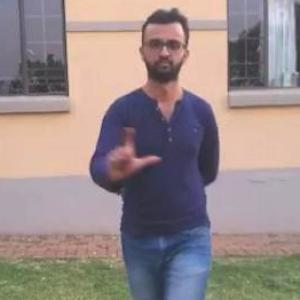land_hand: (102, 119, 163, 183)
